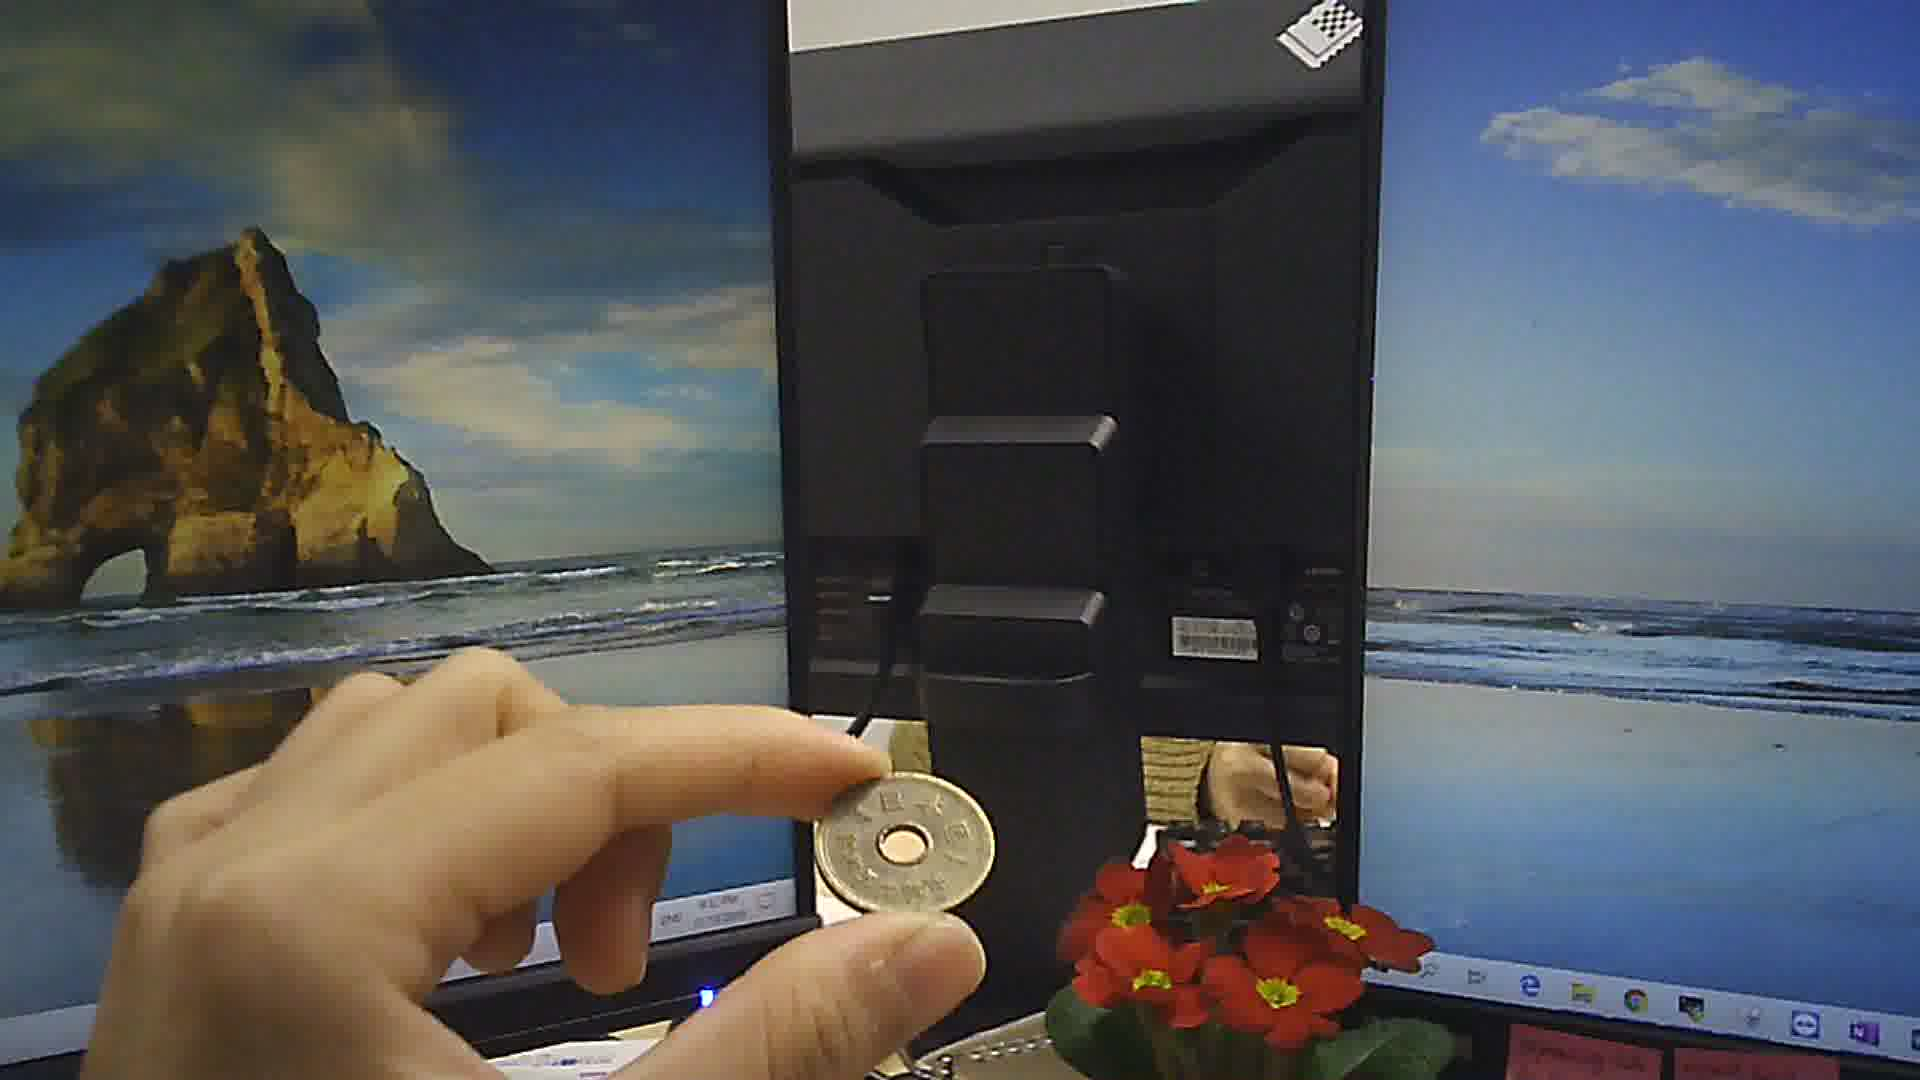5 Yen: (814, 770, 1014, 919)
